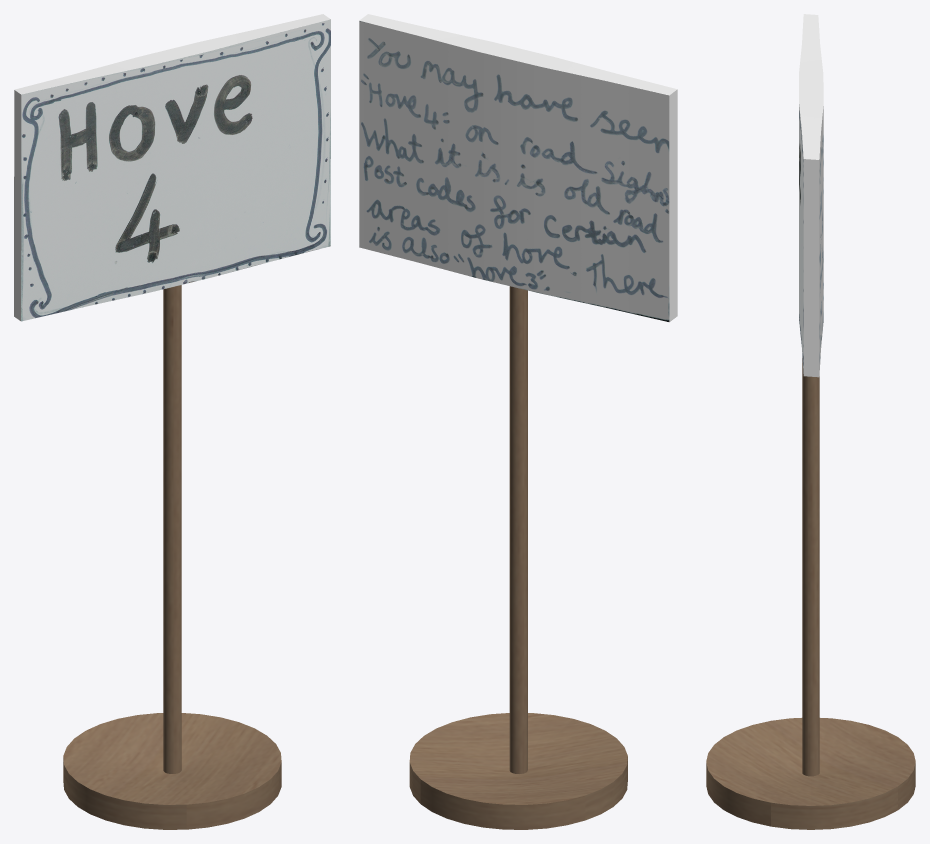
The model's file is cha3.gltf.
3 renders of one model, left to right at view 1: azimuth 30°, elevation 25°; view 2: azimuth 150°, elevation 25°; view 3: azimuth 270°, elevation 25°, orthographic. The views are drawn at different scales.
Parts seen in each view (by area): view 1: Circle.001; view 2: Circle.001; view 3: Circle.001.
Part boxes in pixels (x1,y1,x2,y2): Circle.001: (14, 14, 330, 829); Circle.001: (359, 14, 677, 829); Circle.001: (706, 14, 915, 829).
Bounding box in the file's own units: 0.045 × 0.1011 × 0.0275.
Materials: 4 (3 with a texture image).
